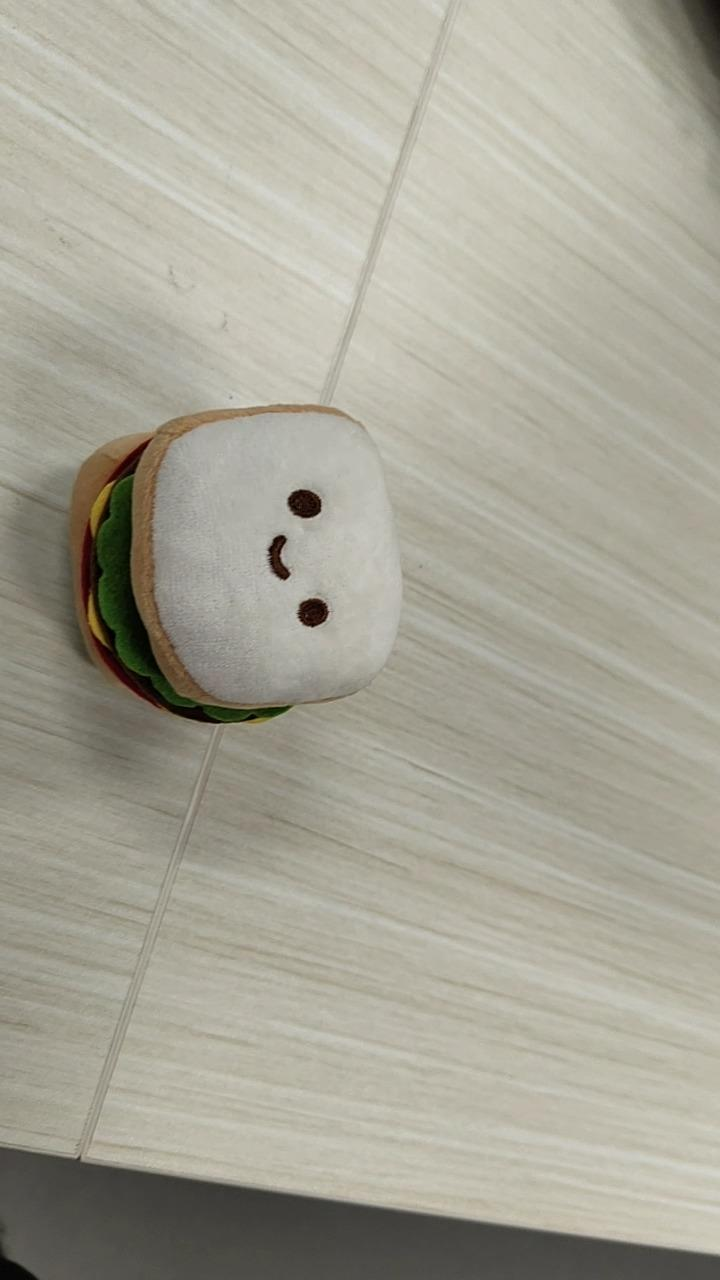objects: (67, 400, 404, 725)
